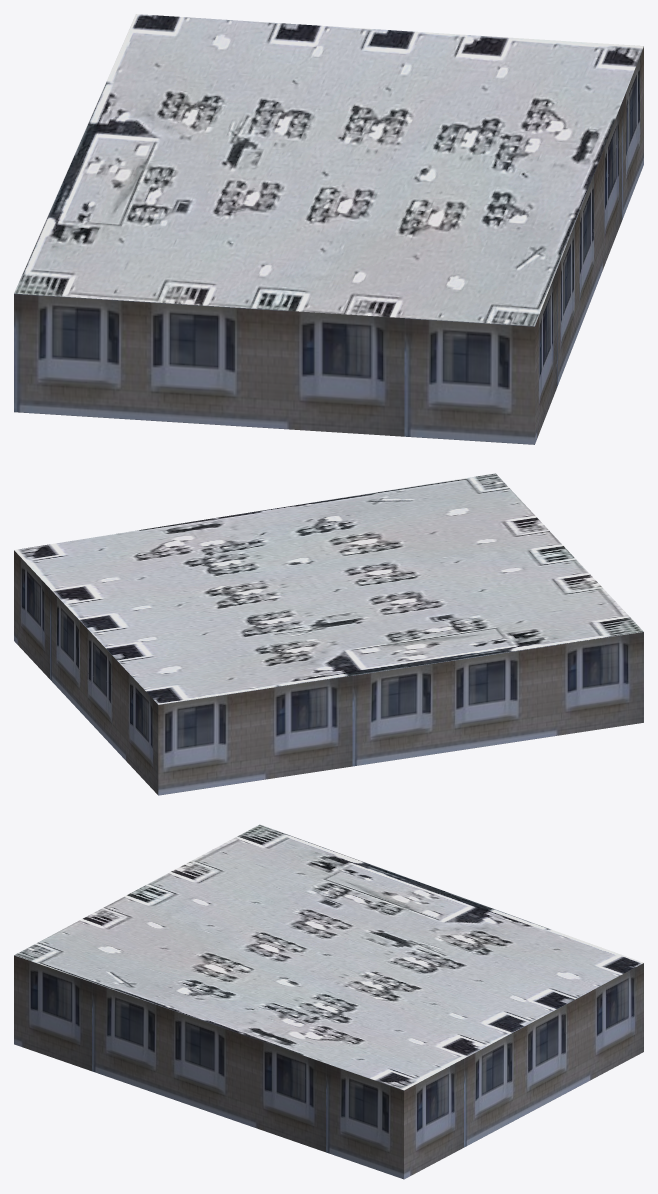
The model's file is ResTex__2913.fbx.
The picture shows the model from 3 angles, top to bottom: view 1: azimuth 30°, elevation 25°; view 2: azimuth 150°, elevation 25°; view 3: azimuth 270°, elevation 25°; orthographic projection. The views are drawn at different scales.
Visible parts, largest first — view 1: CityEngineMaterial_4_m, CityEngineMaterial_3_m; view 2: CityEngineMaterial_4_m, CityEngineMaterial_3_m; view 3: CityEngineMaterial_4_m, CityEngineMaterial_3_m.
Boxes of the visible parts, x1,y1,x2,y2 form: CityEngineMaterial_4_m: (14, 14, 643, 326); CityEngineMaterial_3_m: (14, 46, 643, 444); CityEngineMaterial_4_m: (14, 473, 643, 704); CityEngineMaterial_3_m: (14, 550, 643, 795); CityEngineMaterial_4_m: (14, 824, 643, 1090); CityEngineMaterial_3_m: (14, 955, 643, 1179).
Bounding box in the file's own units: 19.22 × 3 × 19.24.
2 materials, 2 textured.
